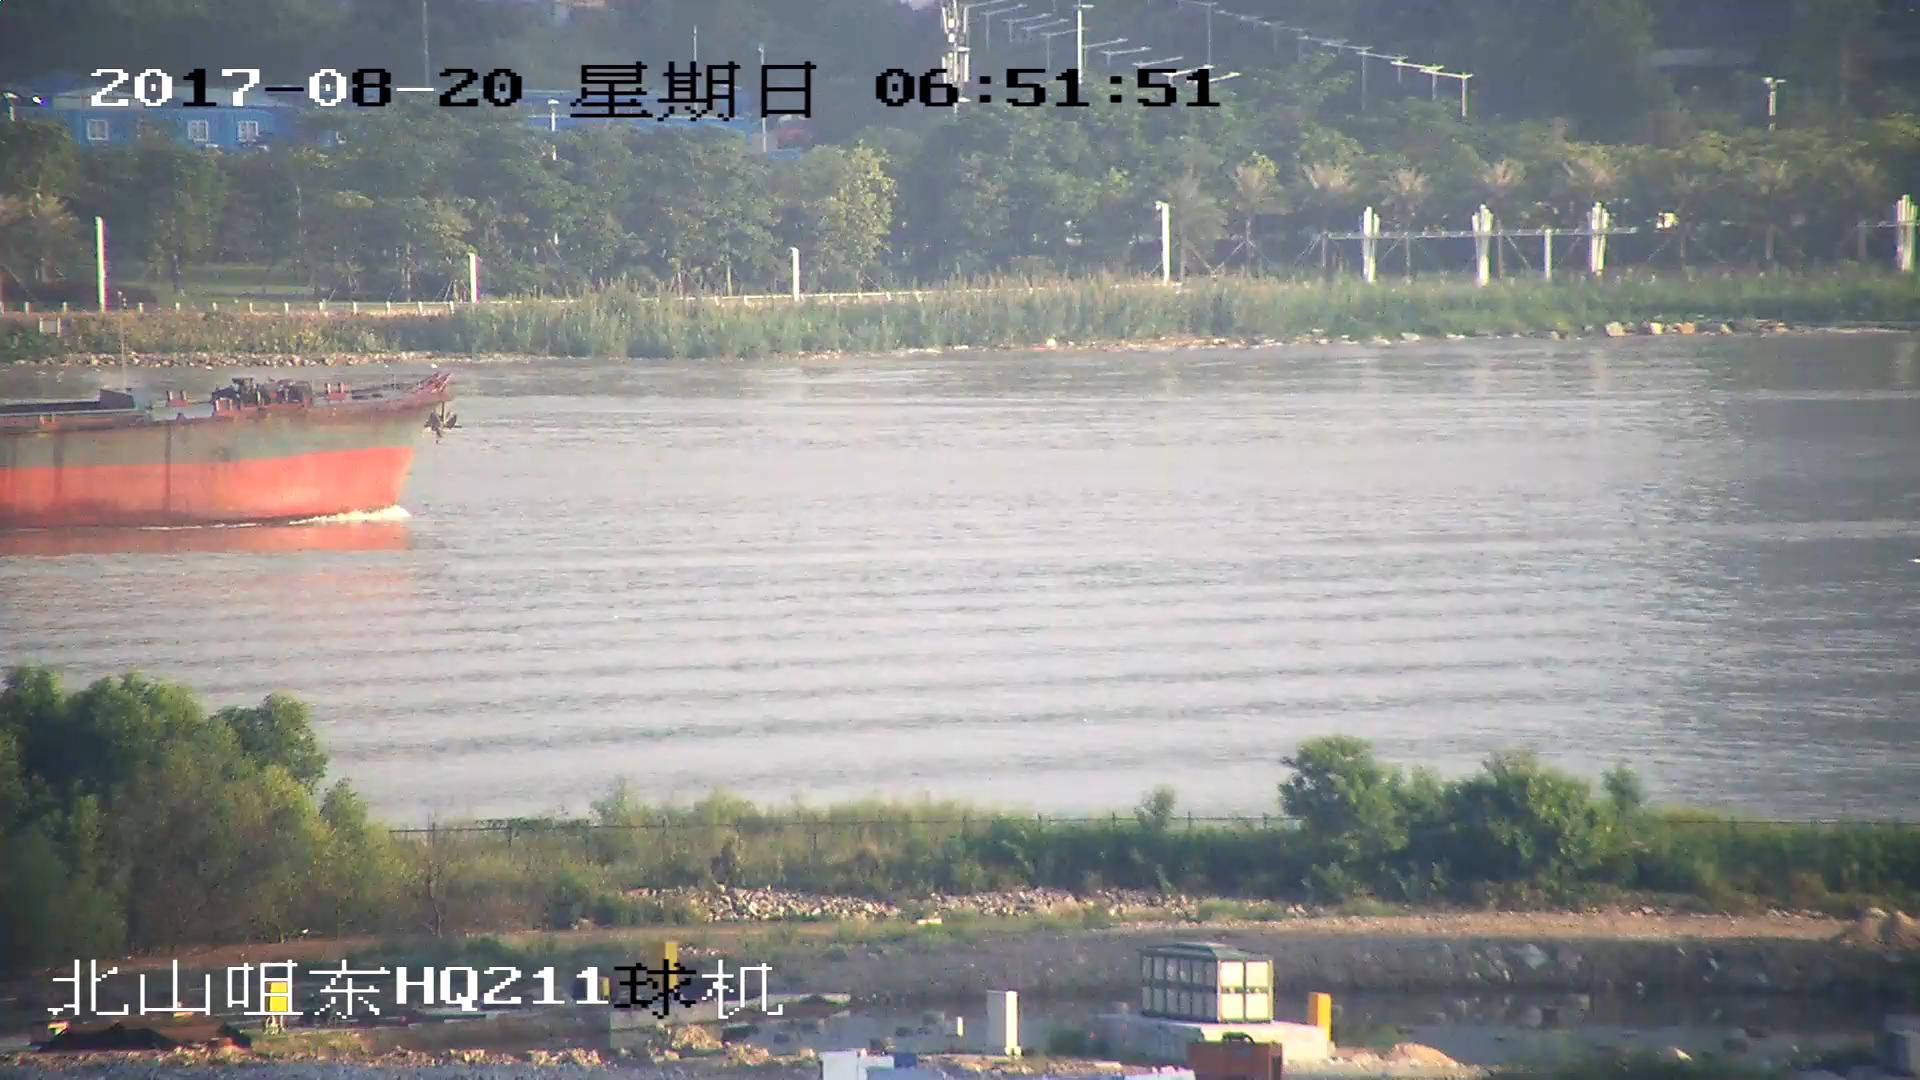bulk cargo carrier: (1, 373, 451, 532)
